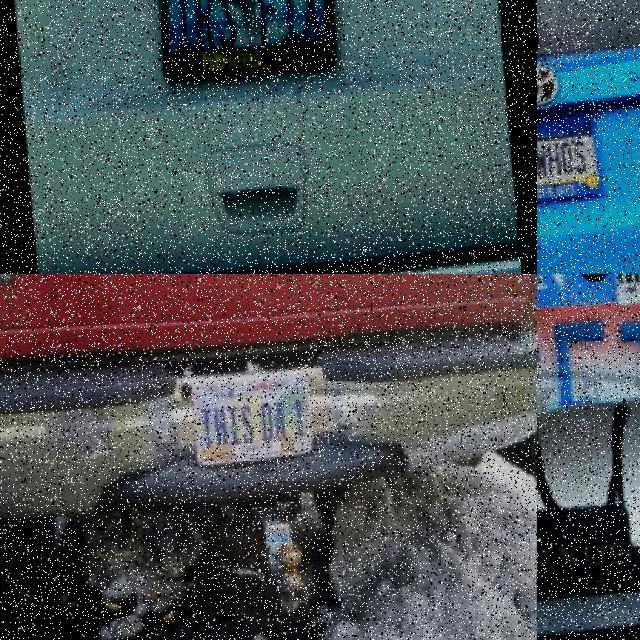LicensePlate: (537, 274, 640, 595), (142, 0, 331, 94), (185, 382, 306, 473), (536, 119, 596, 210)
